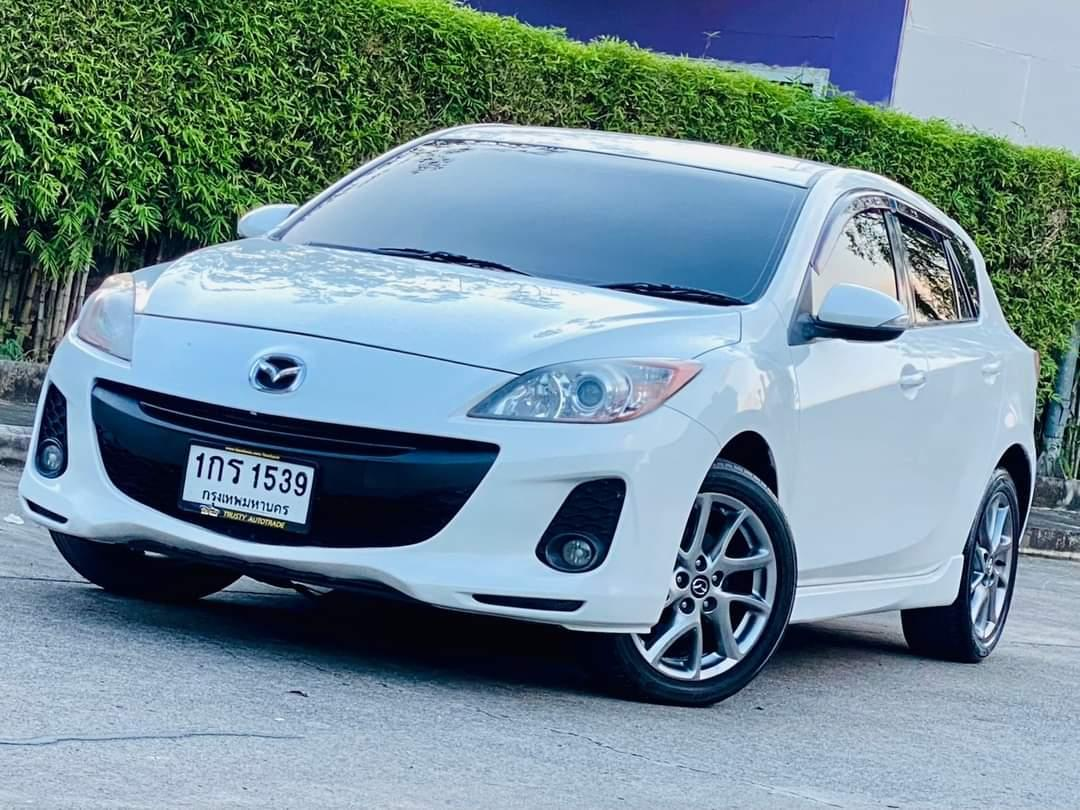license-plate: (176, 438, 320, 537)
